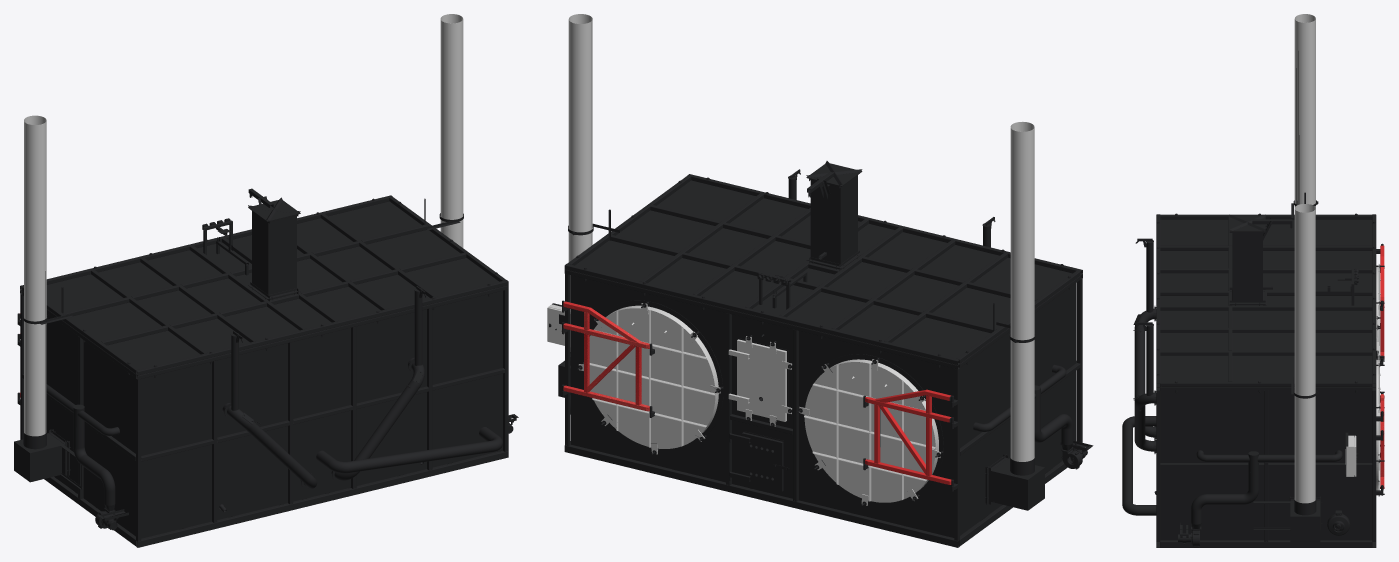
Rendered from kotel.gltf.
3 views of the same model, side by side, from view 1: azimuth 30°, elevation 25°; view 2: azimuth 150°, elevation 25°; view 3: azimuth 270°, elevation 25° (orthographic). The views are drawn at different scales.
Parts seen in each view (by area): view 1: Каркас печи (сборочный) — для саи; view 2: Каркас печи (сборочный) — для саи; view 3: Каркас печи (сборочный) — для саи.
Part boxes in pixels (left/top/right/bottom): Каркас печи (сборочный) — для саи: left=14, top=14, right=518, bottom=547; Каркас печи (сборочный) — для саи: left=547, top=14, right=1093, bottom=547; Каркас печи (сборочный) — для саи: left=1122, top=14, right=1384, bottom=547.
Bounding box in the file's own units: 143 × 116 × 78.69.
Materials: 3 (3 with a texture image).
